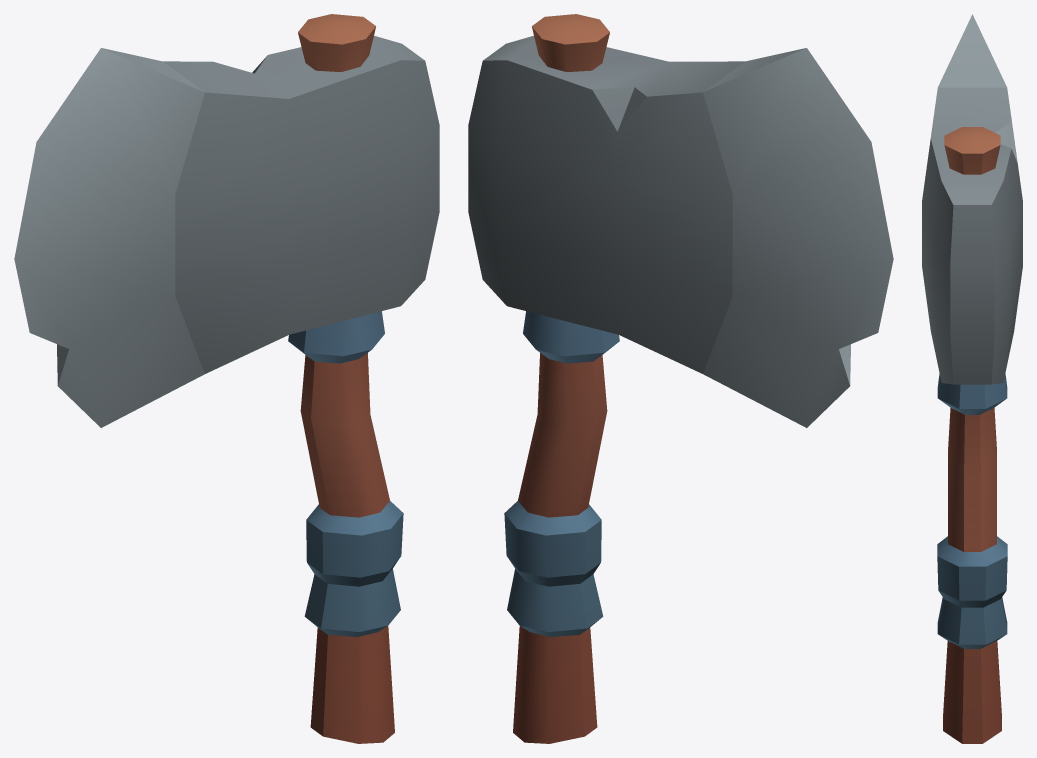
Rendered from adv_axe_1handed.glb.
The picture shows the model from 3 angles, left to right: view 1: azimuth 30°, elevation 25°; view 2: azimuth 150°, elevation 25°; view 3: azimuth 270°, elevation 25°; orthographic projection. The views are drawn at different scales.
Visible parts, largest first — view 1: axe_1handed; view 2: axe_1handed; view 3: axe_1handed.
Part boxes in pixels (x1,y1,x2,y2): axe_1handed: [14, 14, 439, 743]; axe_1handed: [468, 14, 893, 743]; axe_1handed: [922, 14, 1022, 743].
Bounding box in the file's own units: 0.7143 × 1.24 × 0.185.
Materials: 1 (1 with a texture image).
